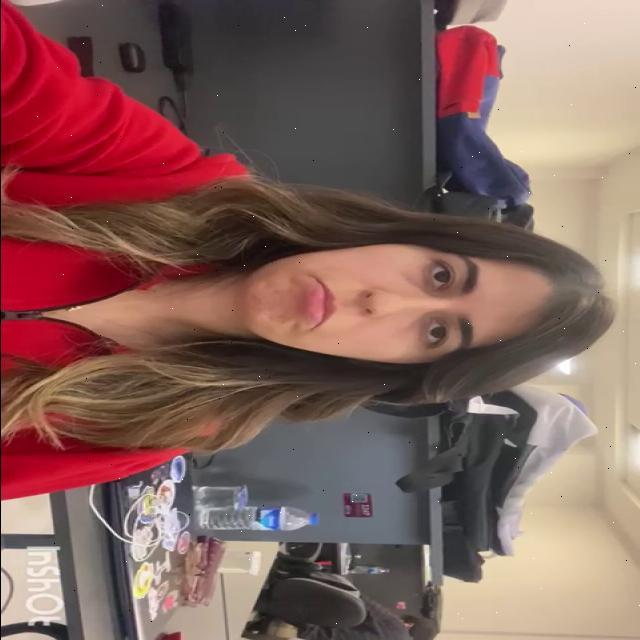sad: (238, 240, 555, 366)
